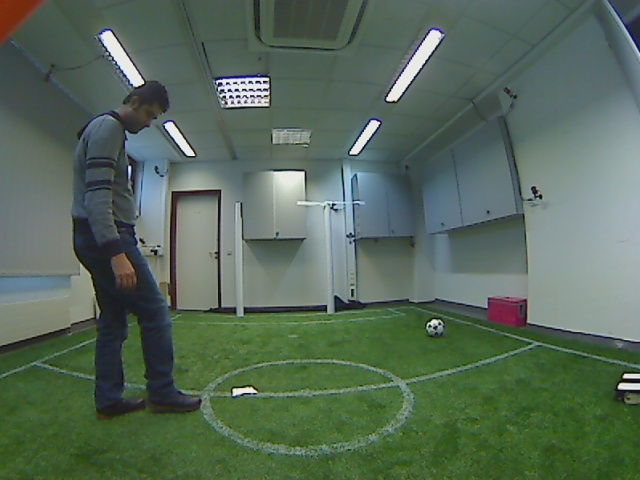ball: (420, 315, 449, 342)
